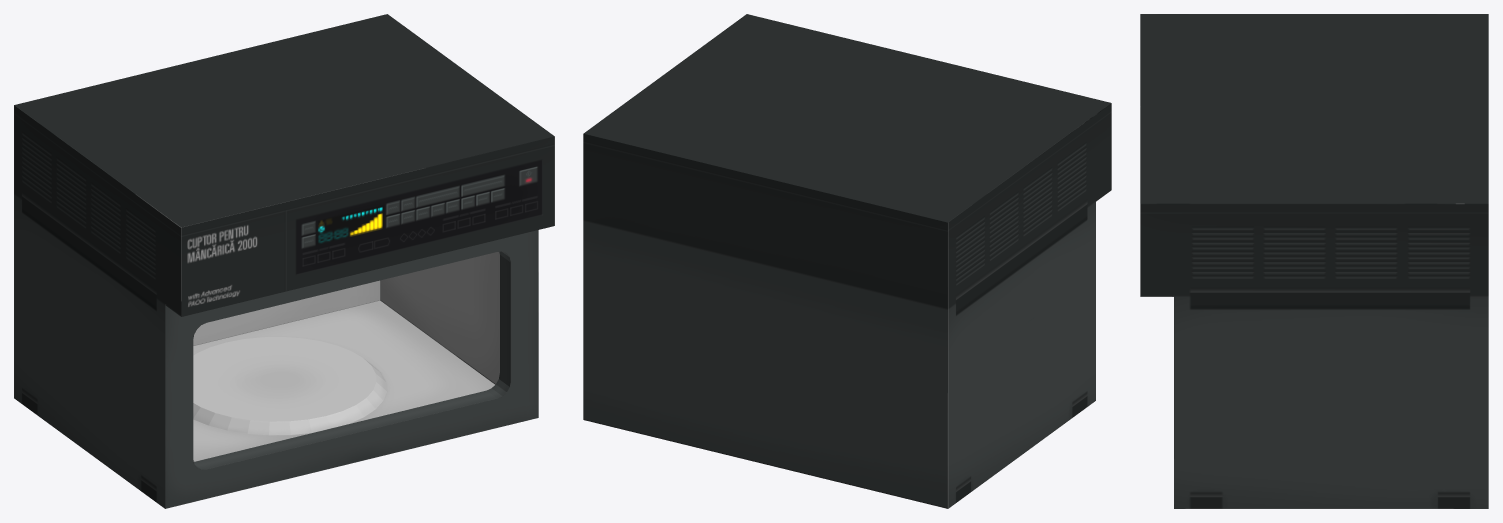
Rendered from microwave.gltf.
3 renders of one model, left to right at view 1: azimuth 30°, elevation 25°; view 2: azimuth 150°, elevation 25°; view 3: azimuth 270°, elevation 25°, orthographic. The views are drawn at different scales.
Parts seen in each view (by area): view 1: microwave; view 2: microwave; view 3: microwave.
Part boxes in pixels (x1=…): microwave: x1=14, y1=14, x2=554, y2=508; microwave: x1=583, y1=14, x2=1111, y2=508; microwave: x1=1140, y1=14, x2=1488, y2=508.
Size of the model in its own units: 1 by 0.75 by 0.7763.
Materials: 1 (1 with a texture image).
